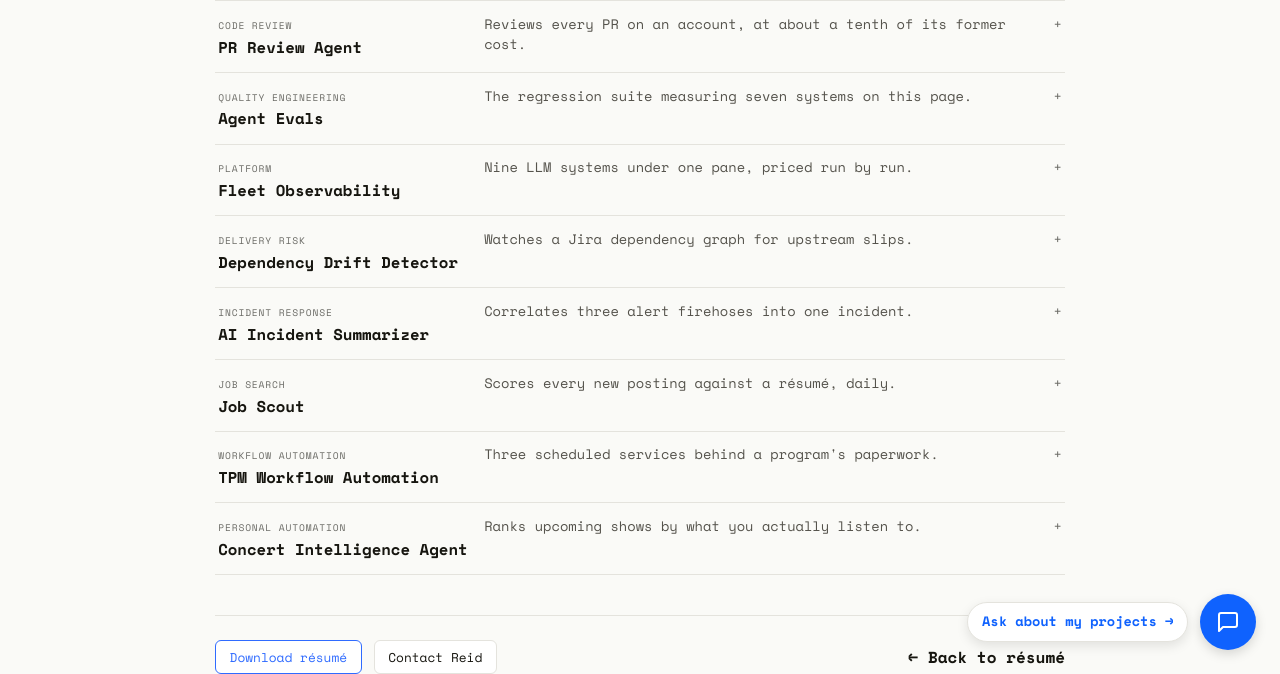
Test case: WorkPage › offers a way back to the résumé and a contact route
(page scrolled)
Click the button "Contact Reid".
click(435, 657)  # box [374,640,497,673]
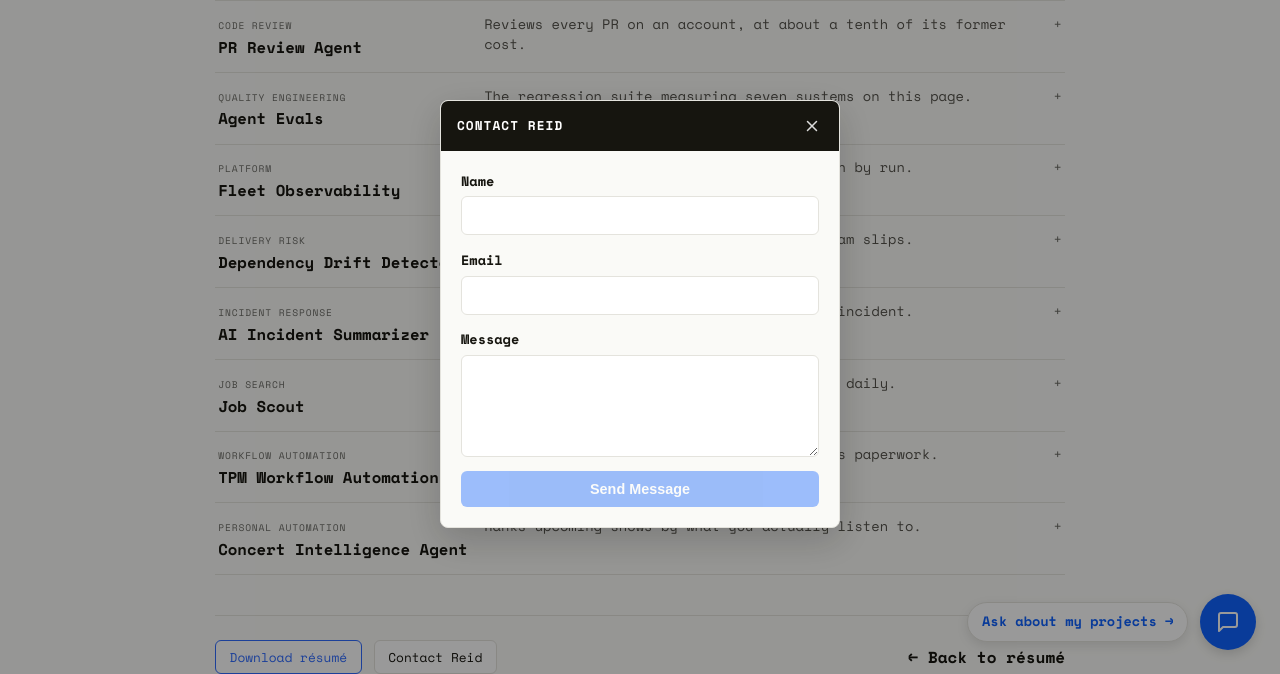
Expected: the dialog is shown, [440,100,840,528]
